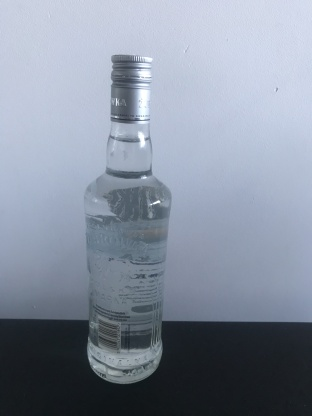nakretka: (109, 52, 152, 126)
